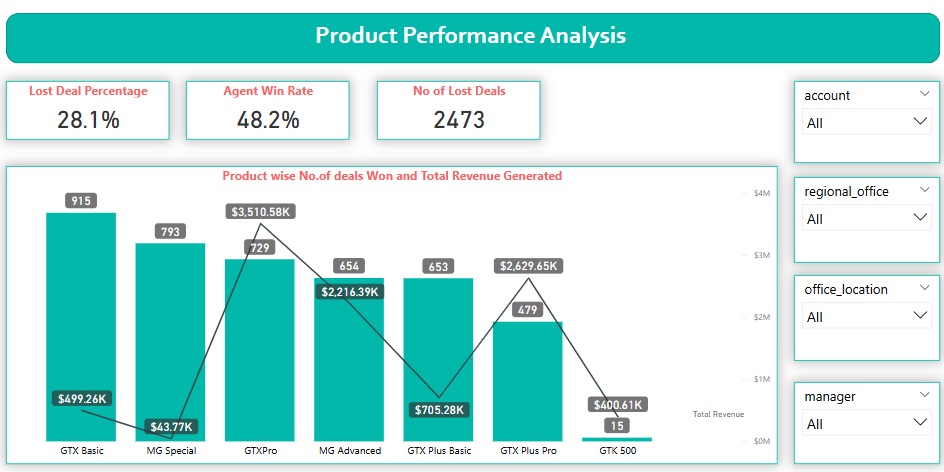

This screenshot's page, from the dashboard's own definition file:
{"tool":"powerbi","page":{"name":"Product Performance Analysis","canvas":[1280,720],"ordinal":4},"visuals":[{"type":"lineClusteredColumnComboChart","title":"Product wise No.of deals Won and Total Revenue Generated","fields":{"Category":["sales_pipeline.product"],"Y2":["_measures.Total Revenue"],"Y":["_measures.CountOfWonDeals"]},"box":[23.9,244,1024.7,395.9],"z":0},{"type":"slicer","fields":{"Values":["accounts.office_location"]},"box":[1071,388.9,194.2,113.5],"z":1000},{"type":"slicer","fields":{"Values":["sales_teams.regional_office"]},"box":[1071,258.9,194.2,113.5],"z":2000},{"type":"slicer","fields":{"Values":["sales_teams.manager"]},"box":[1071,530.8,194.2,109],"z":3000},{"type":"slicer","fields":{"Values":["sales_pipeline.account"]},"box":[1071,131.9,194.2,109],"z":4000},{"type":"card","title":"Lost Deal Percentage","fields":{"Values":["_measures.LostDealPercentage"]},"box":[23.9,131.9,216.6,77.7],"z":5000},{"type":"card","title":"Agent Win Rate ","fields":{"Values":["_measures.AgentWinRate"]},"box":[262.9,131.9,216.6,77.7],"z":6000},{"type":"card","title":"No of Lost Deals","fields":{"Values":["_measures.Drop in Lost"]},"box":[516.8,131.9,216.6,77.7],"z":7000},{"type":"shape","box":[23.9,41.8,1241.3,67.2],"z":8000},{"type":"textbox","box":[89.6,46.3,1103.9,58.3],"z":9000}]}

Visuals, with their boxes on the page's 1280x720 design canvas (x1, y1, x2, y2). These are canvas units, not pixel positions in the 944x472 screenshot, which may show the page scaled, cropped or inside an application window:
"Product wise No.of deals Won and Total Revenue Generated" lineClusteredColumnComboChart: {"x1": 24, "y1": 244, "x2": 1049, "y2": 640}
slicer - accounts.office_location: {"x1": 1071, "y1": 389, "x2": 1265, "y2": 502}
slicer - sales_teams.regional_office: {"x1": 1071, "y1": 259, "x2": 1265, "y2": 372}
slicer - sales_teams.manager: {"x1": 1071, "y1": 531, "x2": 1265, "y2": 640}
slicer - sales_pipeline.account: {"x1": 1071, "y1": 132, "x2": 1265, "y2": 241}
"Lost Deal Percentage" card: {"x1": 24, "y1": 132, "x2": 240, "y2": 210}
"Agent Win Rate " card: {"x1": 263, "y1": 132, "x2": 480, "y2": 210}
"No of Lost Deals" card: {"x1": 517, "y1": 132, "x2": 733, "y2": 210}
shape: {"x1": 24, "y1": 42, "x2": 1265, "y2": 109}
textbox: {"x1": 90, "y1": 46, "x2": 1194, "y2": 105}
